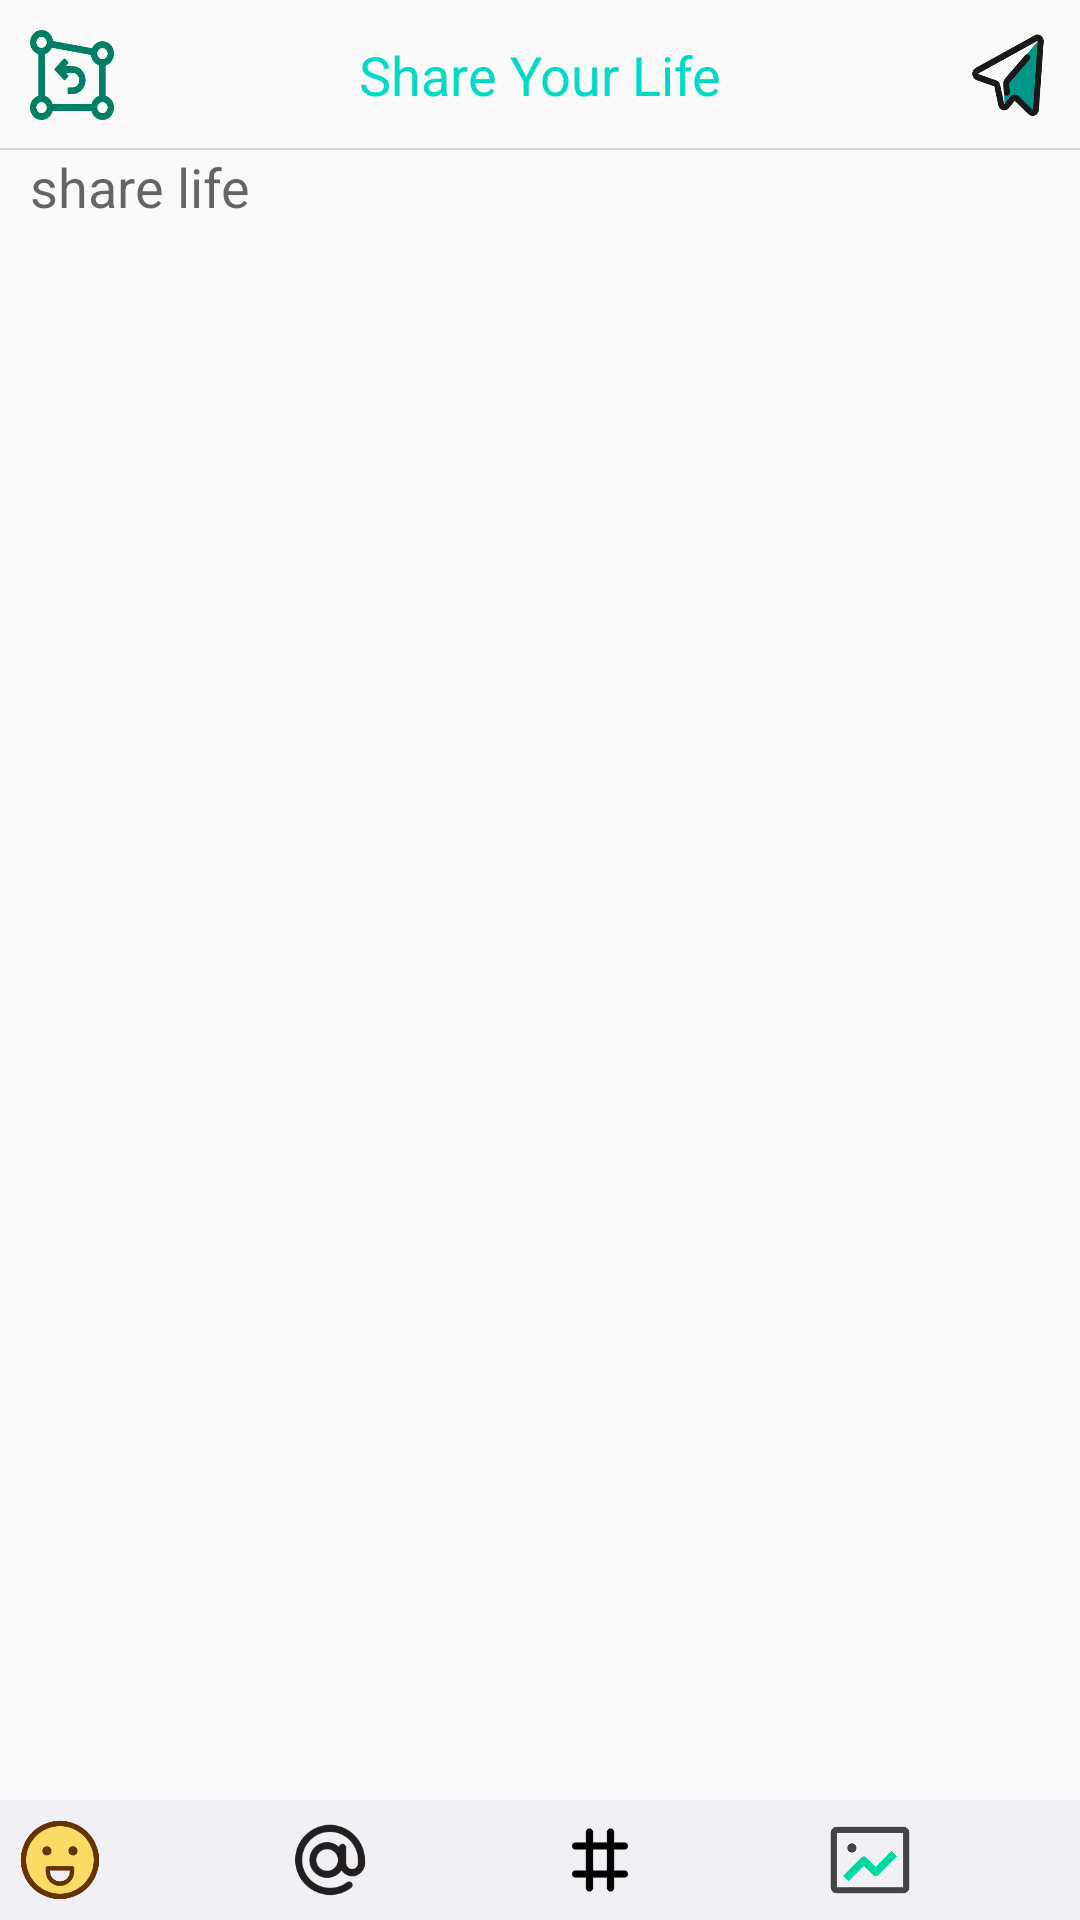

Icons on this 1080*1920 Android screen, each with its box as bbox=[x1, y1, x2, y2]:
emoji: bbox=[20, 1820, 99, 1899]
hash: bbox=[572, 1828, 628, 1892]
send: bbox=[972, 34, 1044, 116]
